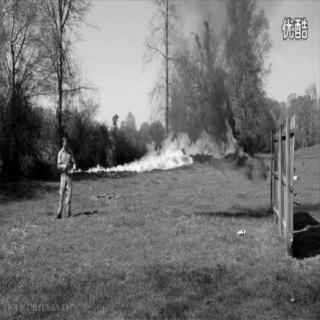Fire: (79, 131, 275, 195)
